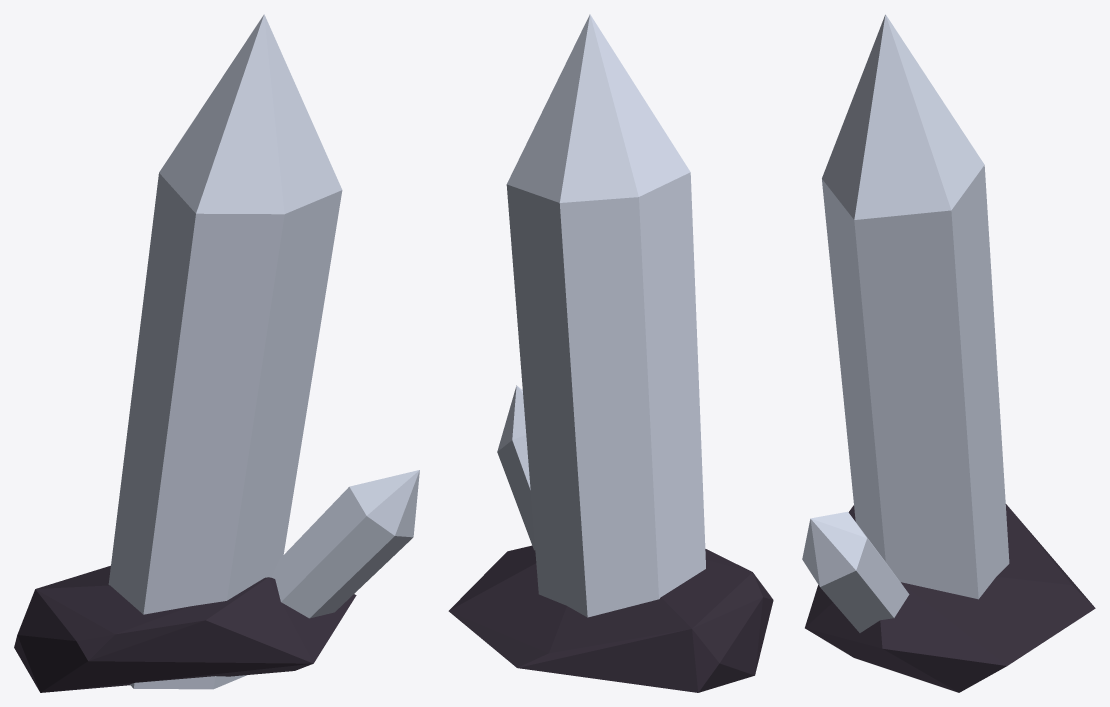
File: Crystal_Single.obj
3 views of the same model, side by side, from view 1: azimuth 30°, elevation 25°; view 2: azimuth 150°, elevation 25°; view 3: azimuth 270°, elevation 25° (orthographic). The views are drawn at different scales.
Parts seen in each view (by area): view 1: Crystal_Single; view 2: Crystal_Single; view 3: Crystal_Single.
Boxes of the visible parts, x1,y1,x2,y2 form: Crystal_Single: [14, 14, 419, 692]; Crystal_Single: [448, 14, 773, 692]; Crystal_Single: [802, 14, 1095, 692].
Size of the model in its own units: 0.4128 by 0.8165 by 0.3359.
